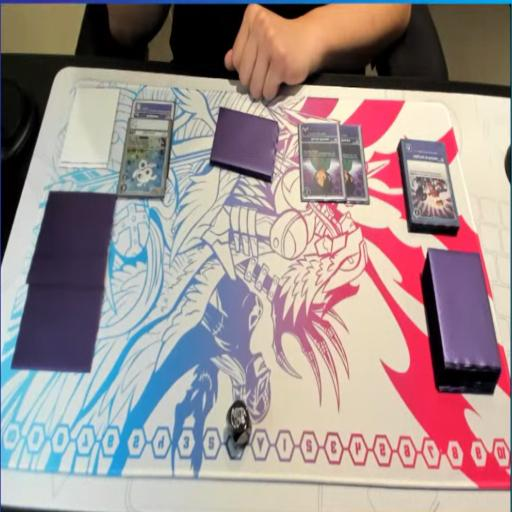card: (400, 138, 456, 233), (116, 120, 175, 196), (297, 122, 347, 204), (338, 119, 368, 211), (131, 101, 172, 127)
